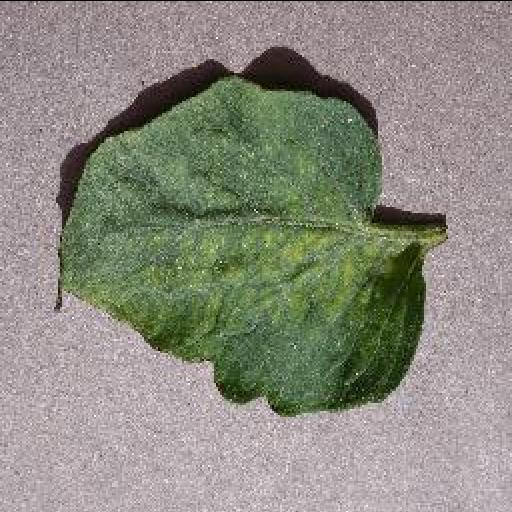disease_tomato: (56, 72, 426, 414)
